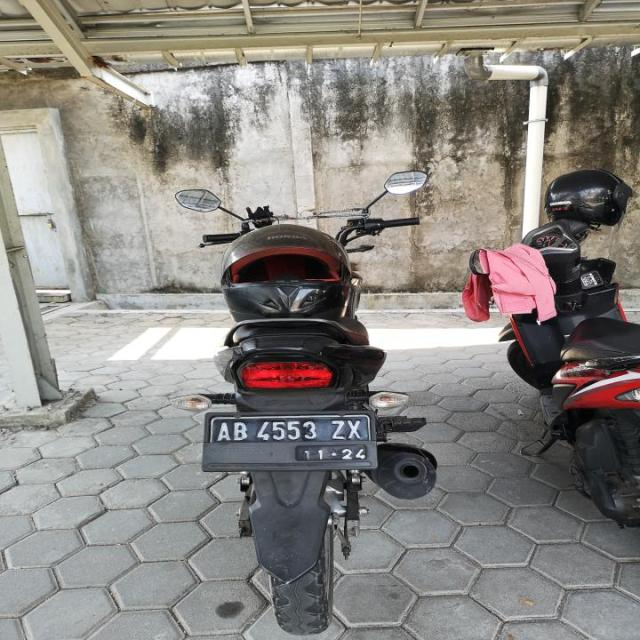License Plate: (202, 406, 378, 472)
